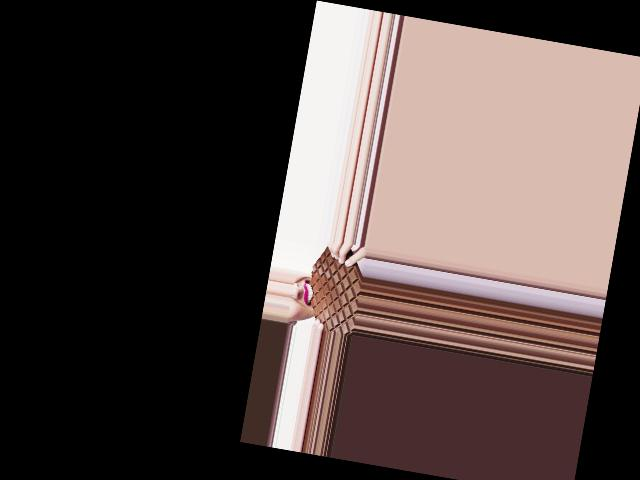chocolate: (300, 237, 368, 335)
